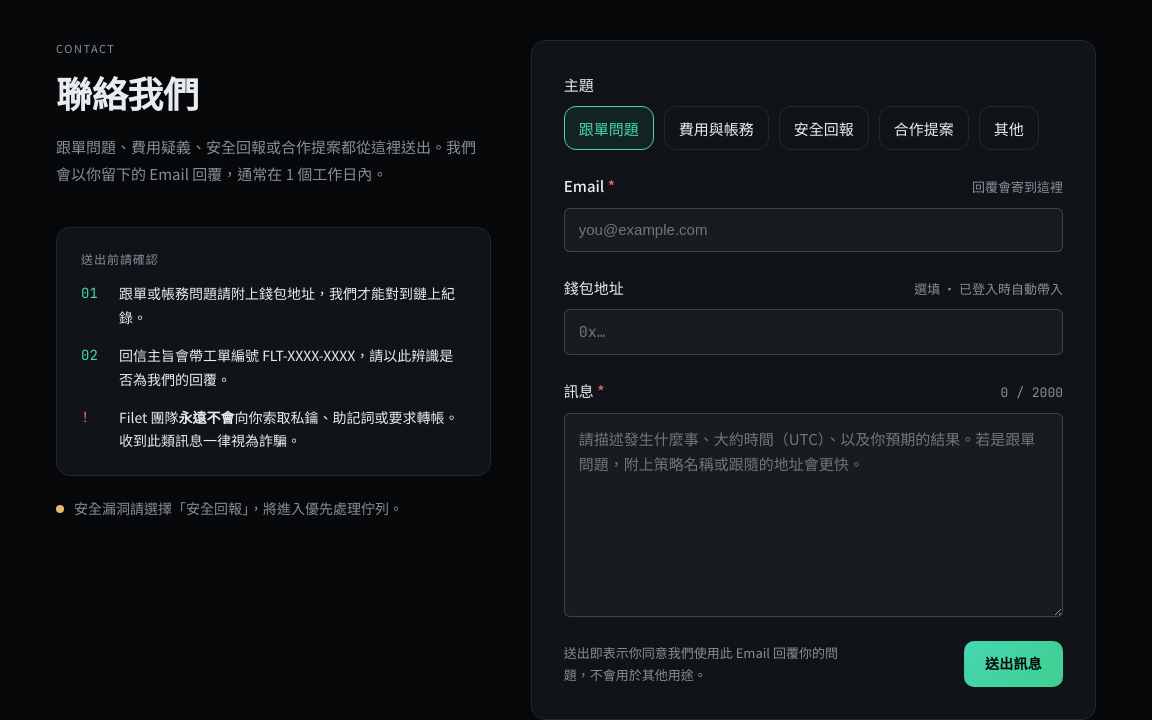
/contact › R3-07 成功：同位置成功卡（標題、工單、{email} 代入、複製、回首頁），表單消失
Type "jim@example.com" into the field labelled "Email".
click(813, 230); type("jim@example.com")  # box [564,208,1063,252]
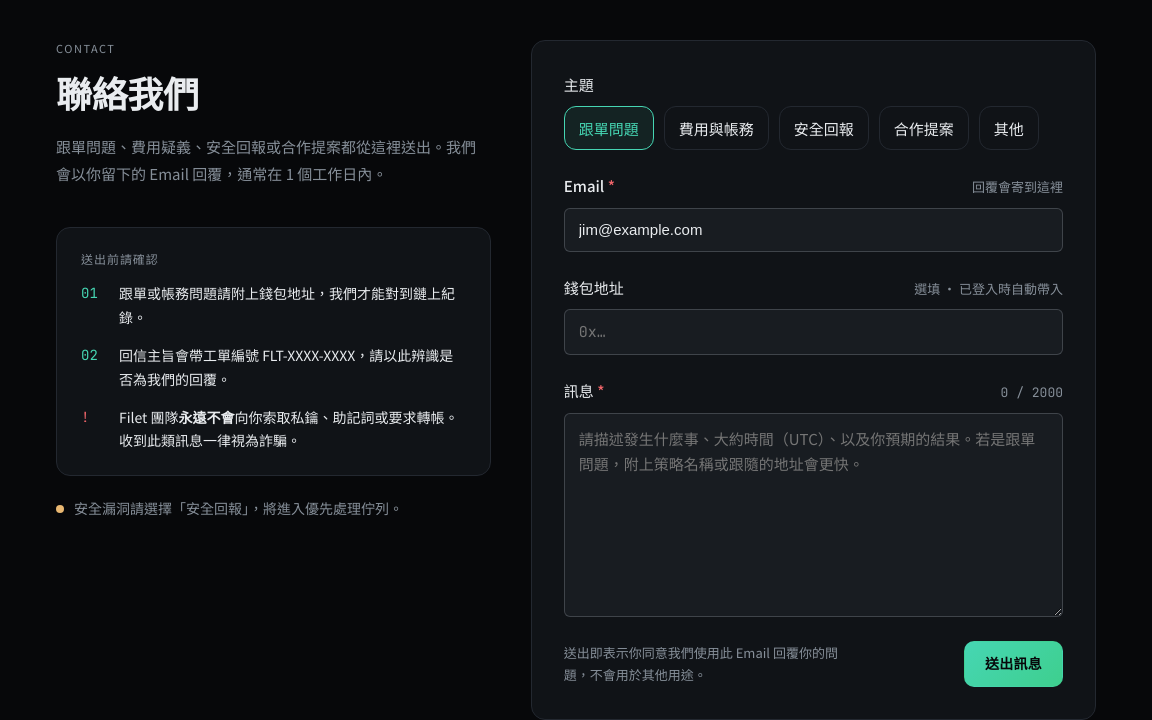
Type "Hello, a question about fees." into the text box labelled "訊息".
click(813, 515); type("Hello, a question about fees.")  # box [564,413,1063,617]
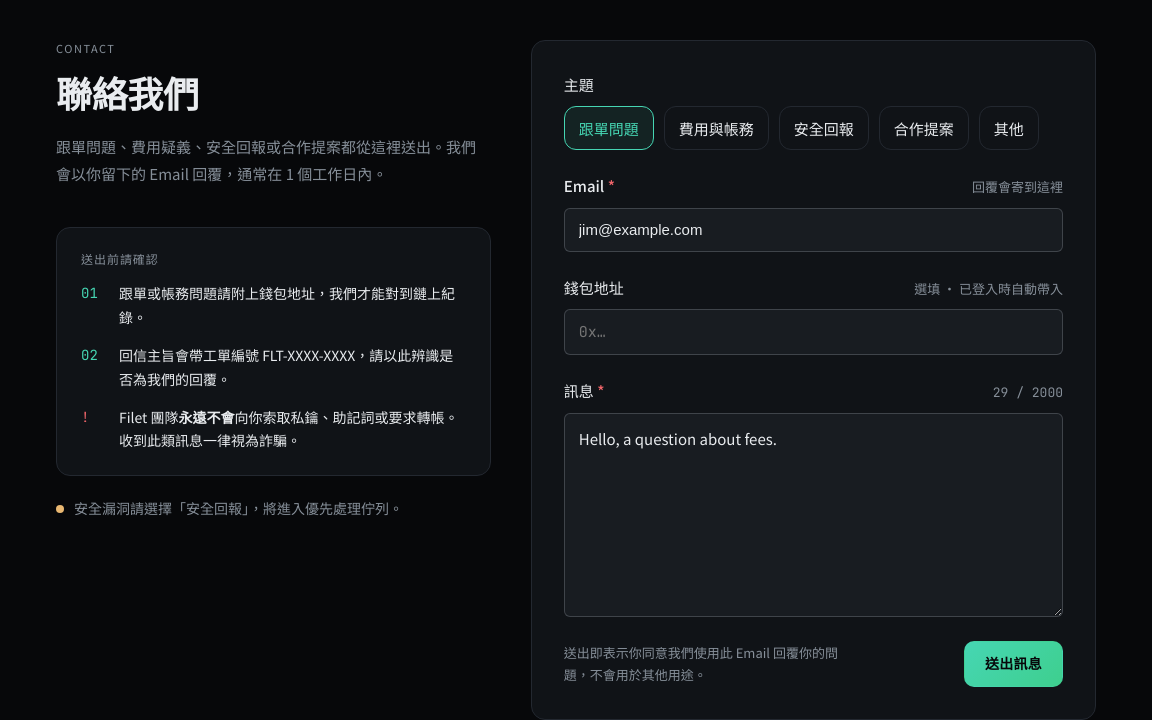
Click the button "送出訊息".
click(1013, 664)  # box [964,641,1063,687]
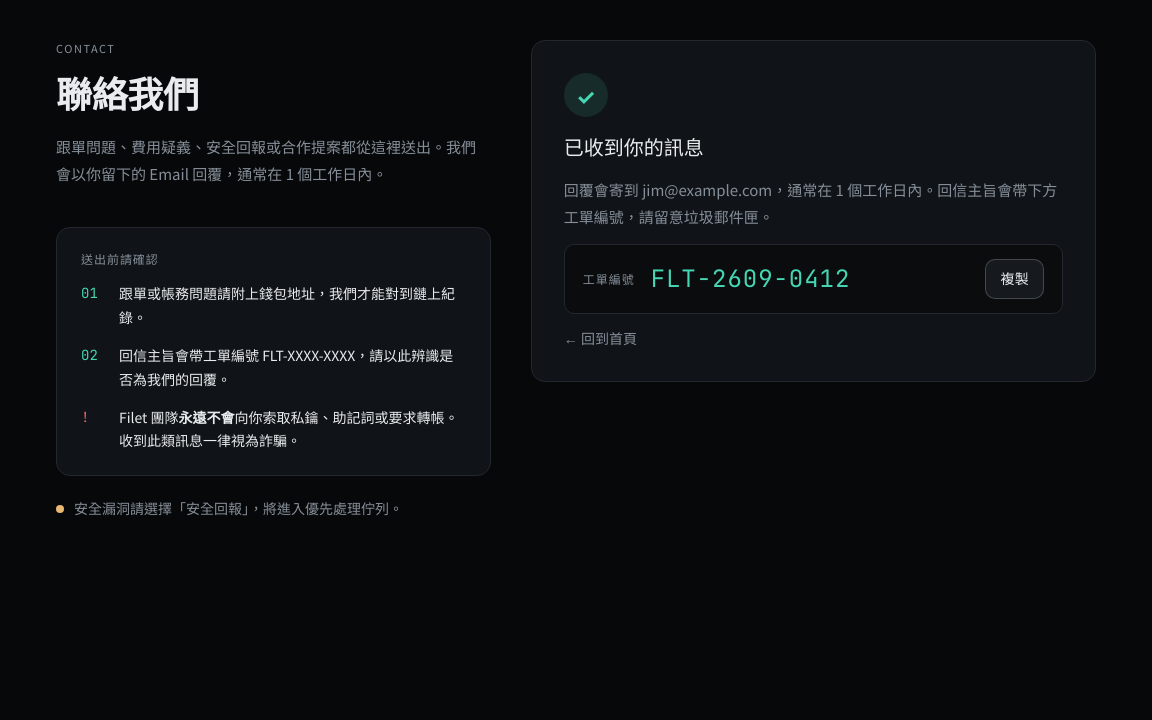
Expected: the heading "已收到你的訊息" is shown, [564,131,704,162]
Expected: the text "FLT-2609-0412" is shown, [651,263,850,294]
Expected: the button "複製" is shown, [985,259,1044,299]
